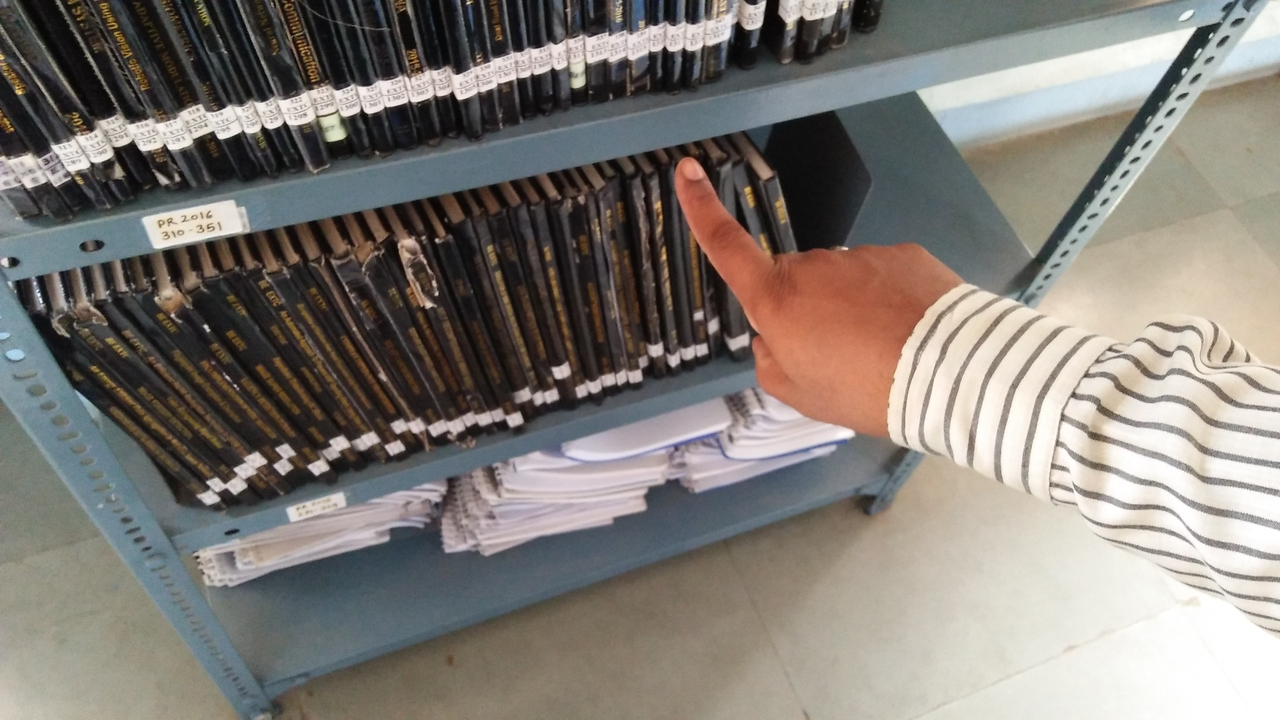fingertip: (666, 148, 724, 204)
